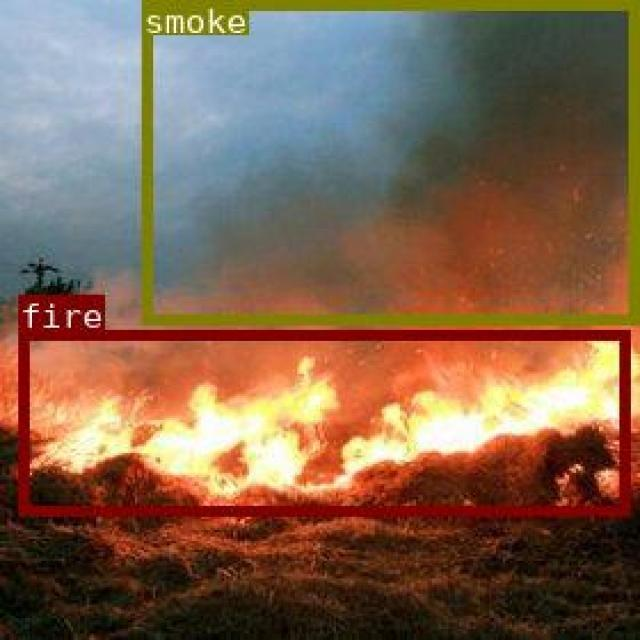fire: (17, 330, 628, 513)
smoke: (142, 0, 635, 321)
